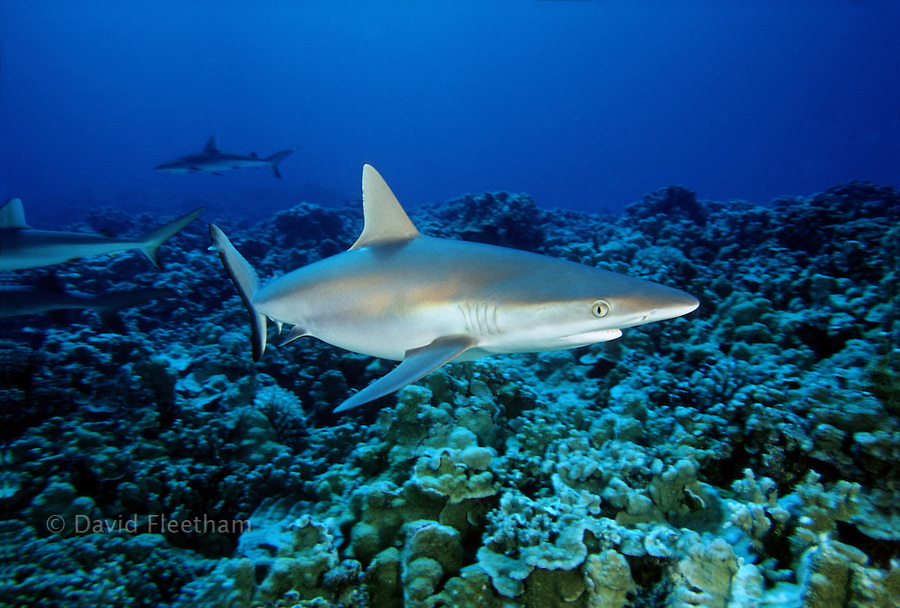Carcharhinus_amblyrhynchos: (201, 156, 711, 408)
